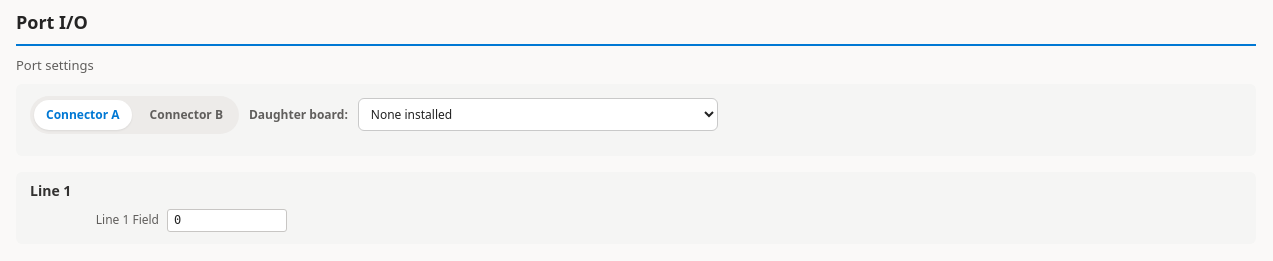
Test case: SegmentView connector selectors › shows top-level connector tabs and scopes governed content to the active connector
Expected: the dropdown named "Daughter board for Connector A" is shown, [358, 98, 718, 131]
Expected: the text "Line 1 Field" is shown, [96, 210, 159, 228]
Click the tab "Connector B" at (186, 114), box [138, 100, 235, 130]
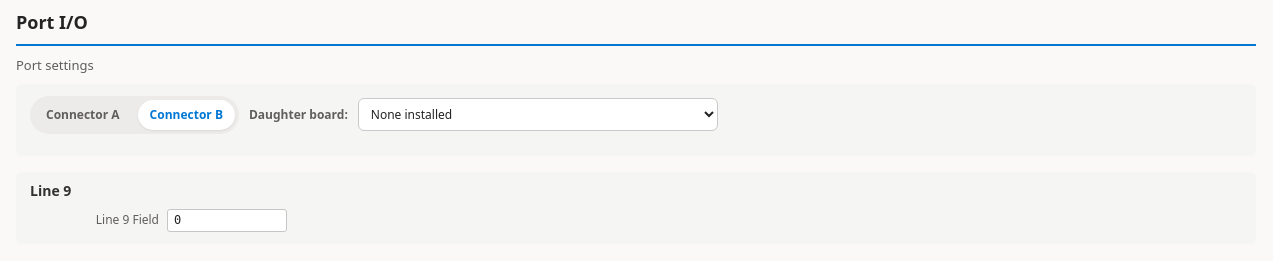
Expected: the dropdown named "Daughter board for Connector B" is shown, [358, 98, 718, 131]
Now the text "Line 9 Field" is shown, box [96, 210, 159, 228]
Now the text "Line 1 Field" is gone
